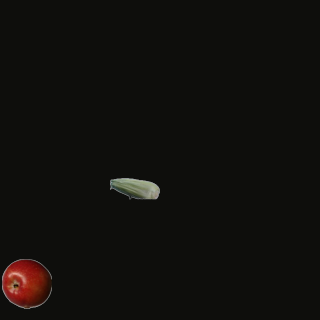Apple Braeburn: (1, 258, 51, 308)
Corn Husk: (109, 163, 159, 213)
